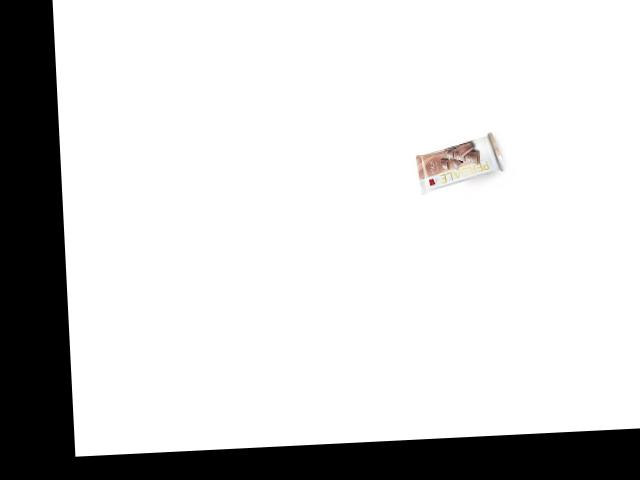chocolate: (414, 125, 499, 197)
